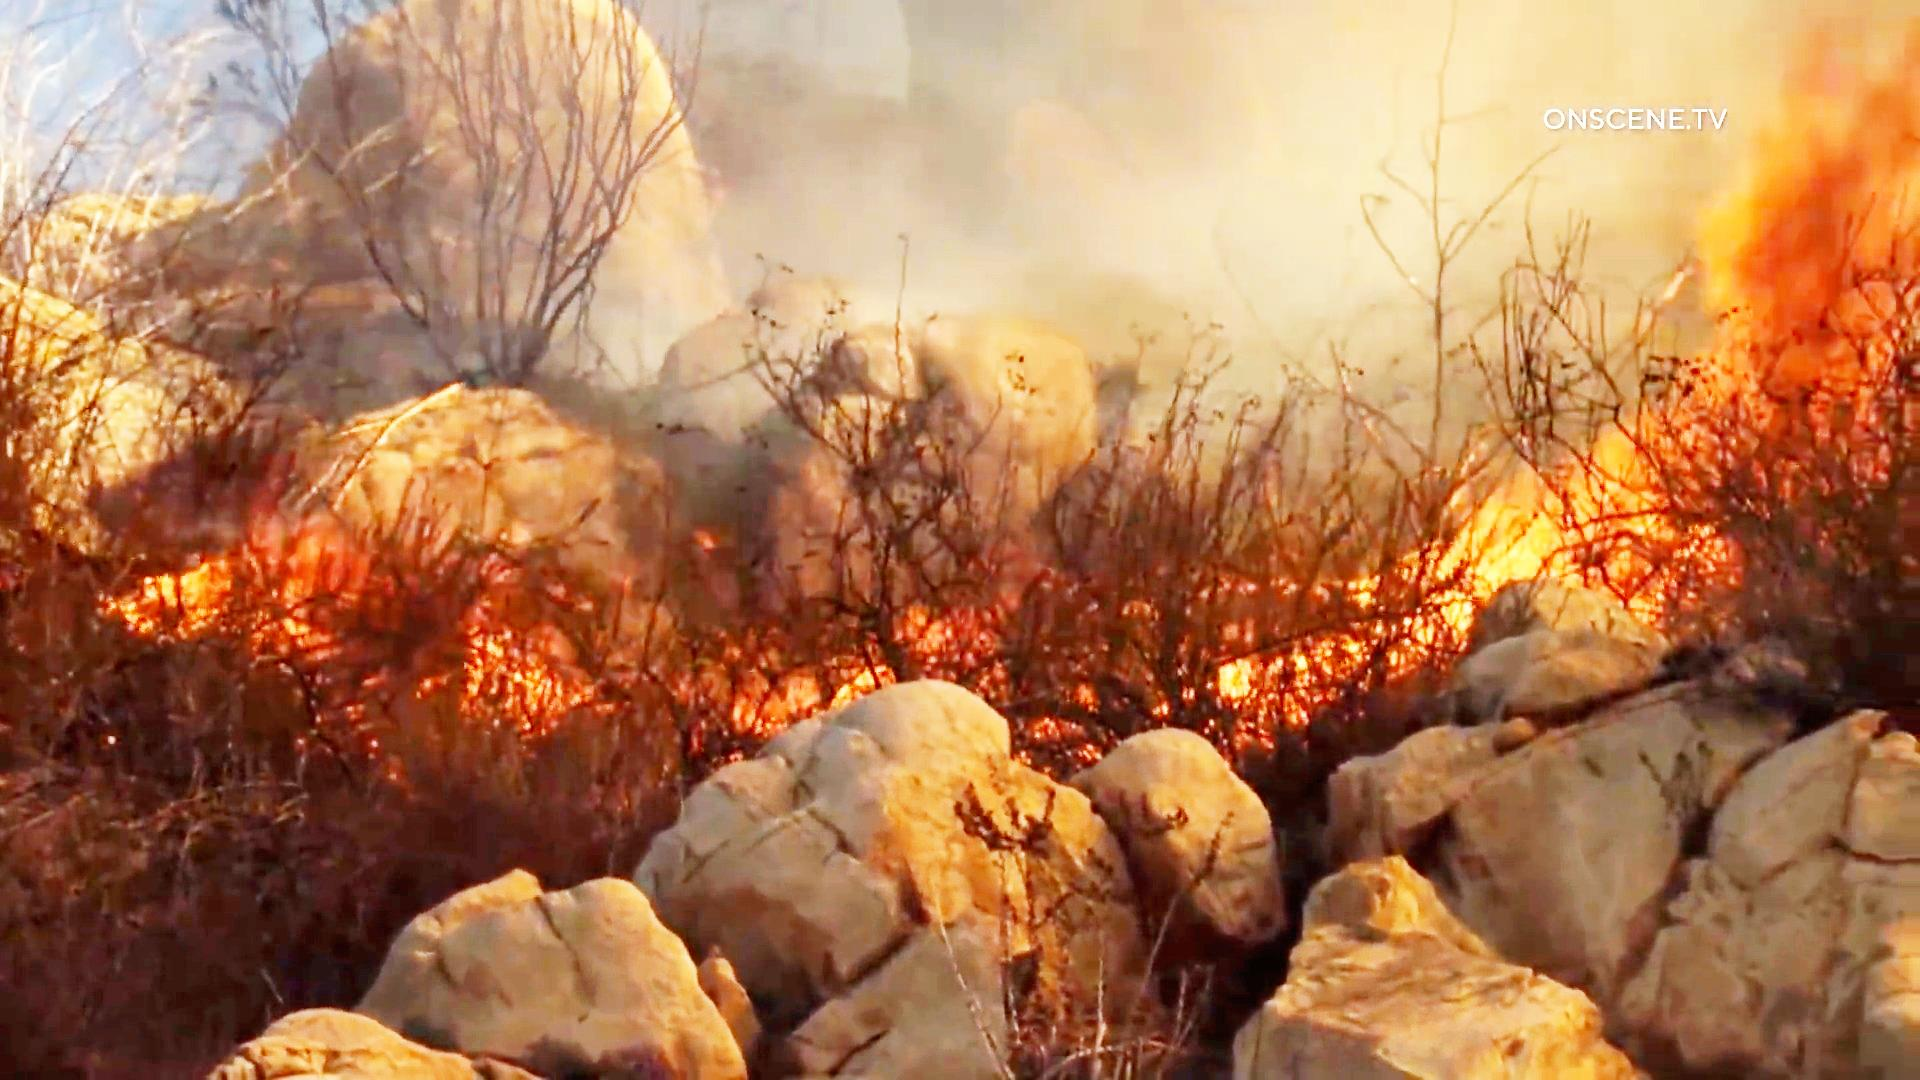fire: (1677, 11, 1920, 479), (1356, 407, 1718, 592), (113, 513, 373, 658)
smoke: (1033, 11, 1652, 315)
